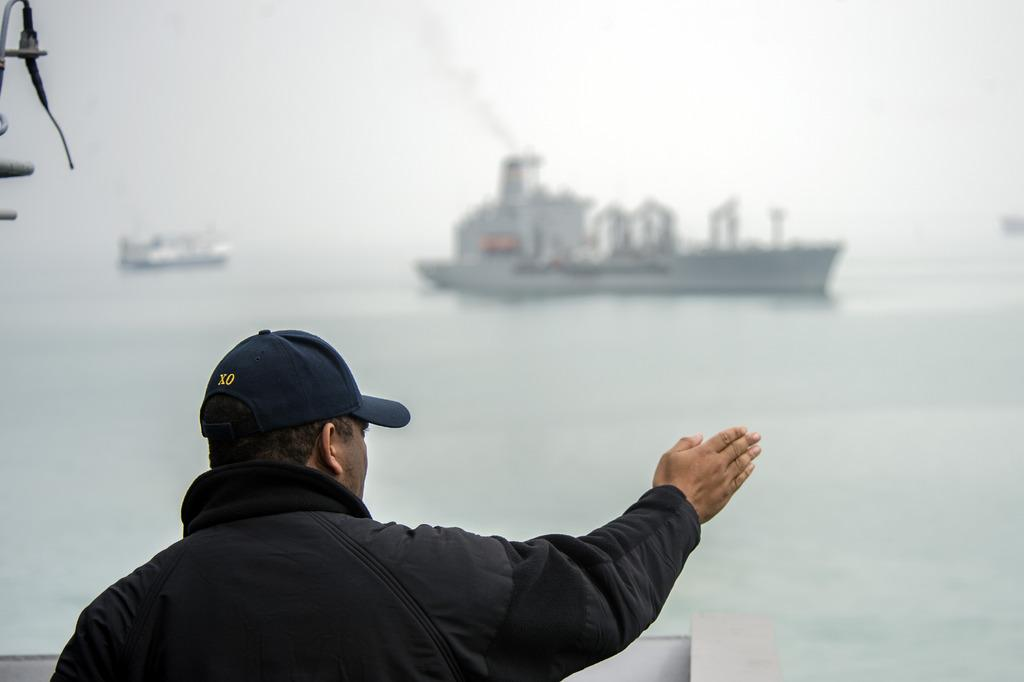Hat: (196, 325, 410, 441)
